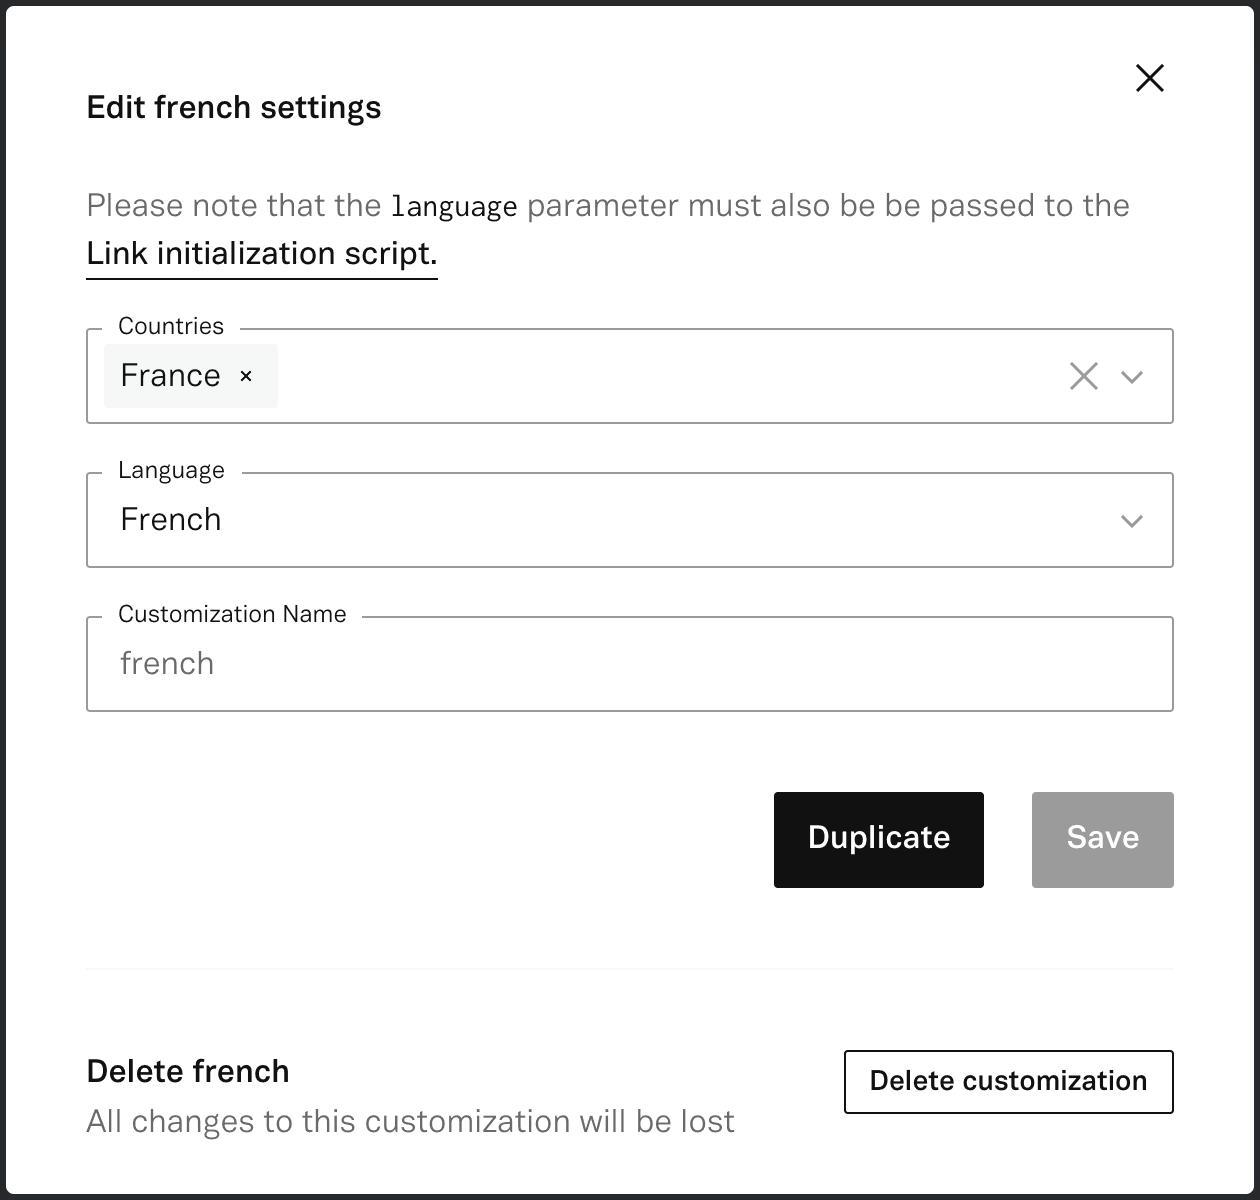button: (841, 1049, 1180, 1117), (769, 788, 988, 891), (1028, 787, 1180, 894)
dropdown: (89, 473, 1174, 568), (90, 334, 1174, 424)
icon: (1127, 56, 1173, 99)
input: (81, 620, 1176, 714)
label: (83, 189, 1140, 227), (84, 1106, 742, 1139), (83, 88, 389, 127), (83, 1052, 291, 1088)
